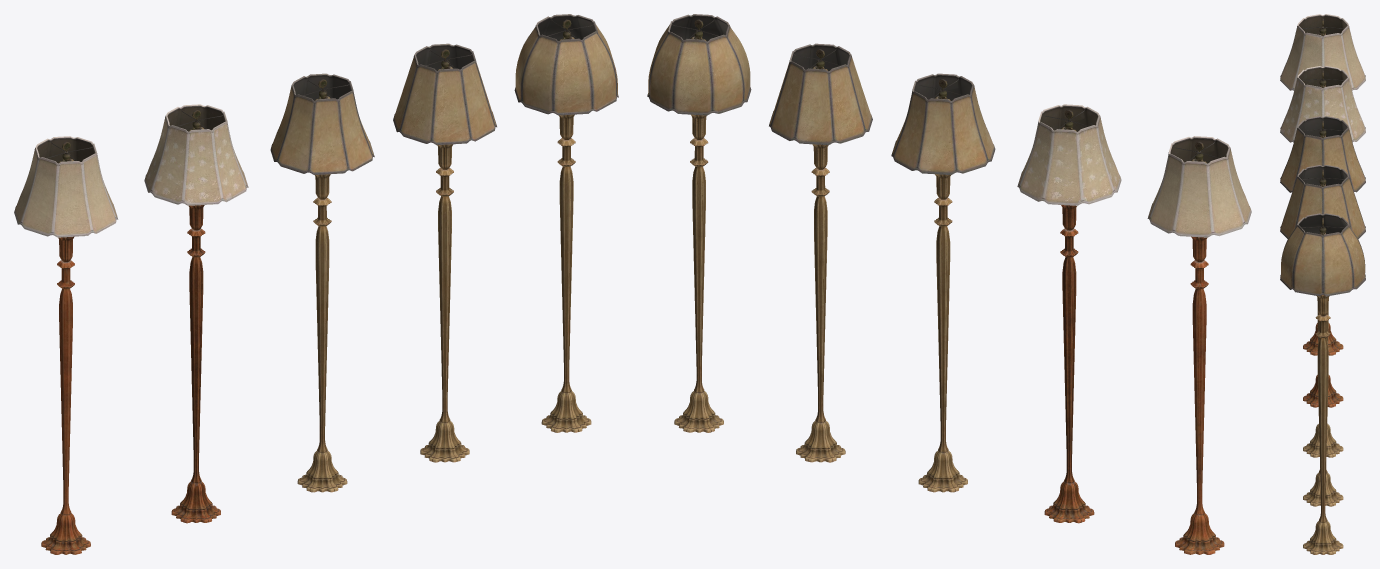
The model's file is 1920s_standing_floor_lamps_type_a.glb.
3 renders of one model, left to right at view 1: azimuth 30°, elevation 25°; view 2: azimuth 150°, elevation 25°; view 3: azimuth 270°, elevation 25°, orthographic. The views are drawn at different scales.
Parts seen in each view (by area): view 1: Object_8, Object_6, Object_4; view 2: Object_8, Object_6, Object_4; view 3: Object_8, Object_4, Object_6.
Part boxes in pixels (box(x1,y1,x2,y2)): Object_8: box(270, 14, 618, 492); Object_6: box(144, 104, 248, 523); Object_4: box(14, 136, 118, 554); Object_8: box(647, 14, 995, 492); Object_6: box(1017, 104, 1121, 523); Object_4: box(1147, 136, 1251, 554); Object_8: box(1280, 116, 1365, 554); Object_4: box(1280, 14, 1365, 355); Object_6: box(1280, 66, 1365, 407).
Bounding box in the file's own units: 2.9 × 1.89 × 0.4462.
3 materials, 3 textured.
